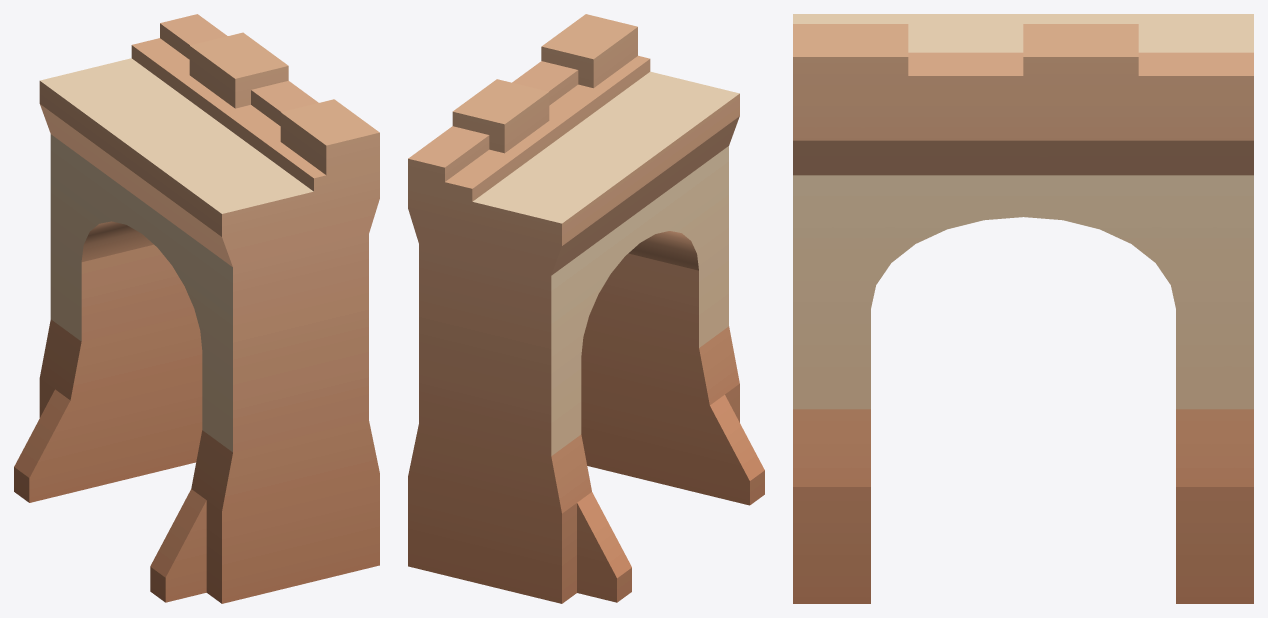
Rendered from k-castle-wall-narrow-gate.glb.
3 views of the same model, side by side, from view 1: azimuth 30°, elevation 25°; view 2: azimuth 150°, elevation 25°; view 3: azimuth 270°, elevation 25° (orthographic). The views are drawn at different scales.
Parts seen in each view (by area): view 1: wall-narrow-gate; view 2: wall-narrow-gate; view 3: wall-narrow-gate.
Boxes of the visible parts, box(x1,y1,x2,y2) form: wall-narrow-gate: box(14, 14, 379, 603); wall-narrow-gate: box(408, 14, 764, 603); wall-narrow-gate: box(793, 14, 1253, 603).
Bounding box in the file's own units: 0.63 × 1.31 × 1.
1 material, 1 textured.
